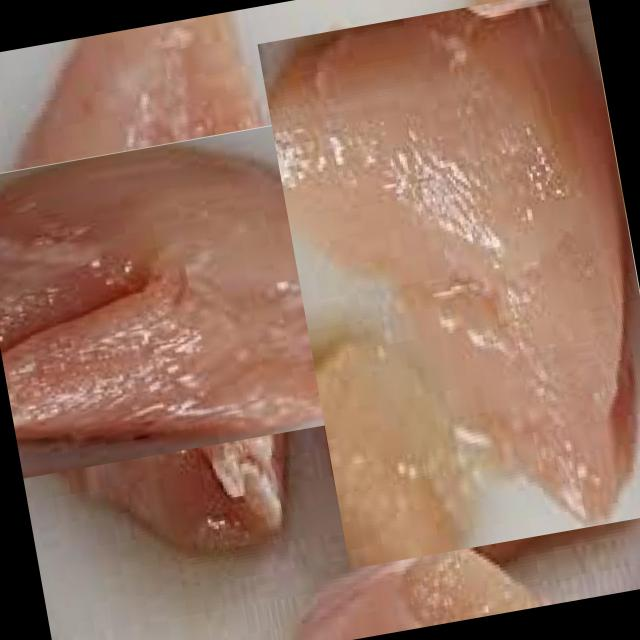chicken: (257, 0, 640, 569), (0, 55, 392, 536)
